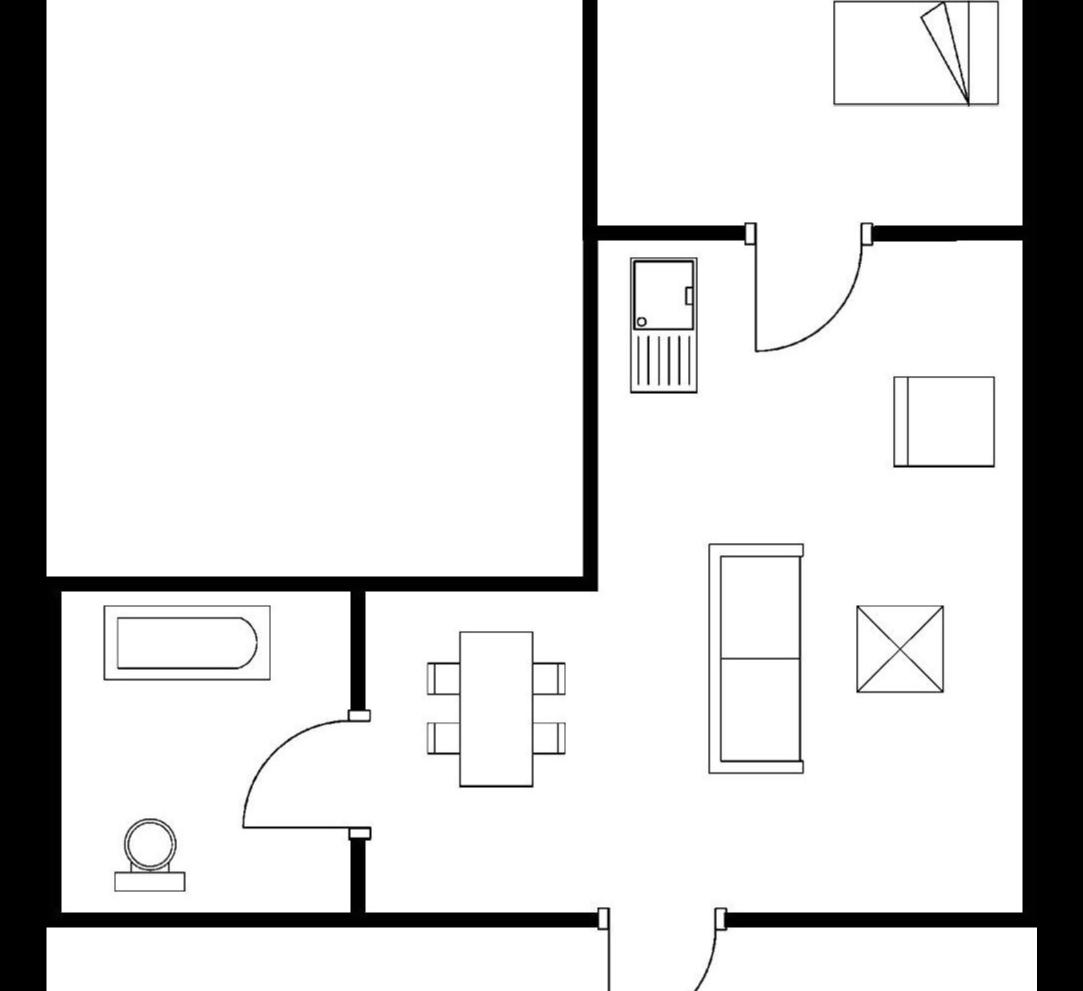bed: (828, 0, 1005, 111)
dining_table: (424, 626, 573, 791)
sink: (626, 251, 702, 397)
sofa: (702, 535, 810, 777)
toilet: (108, 813, 191, 897)
tub: (99, 598, 277, 684)
